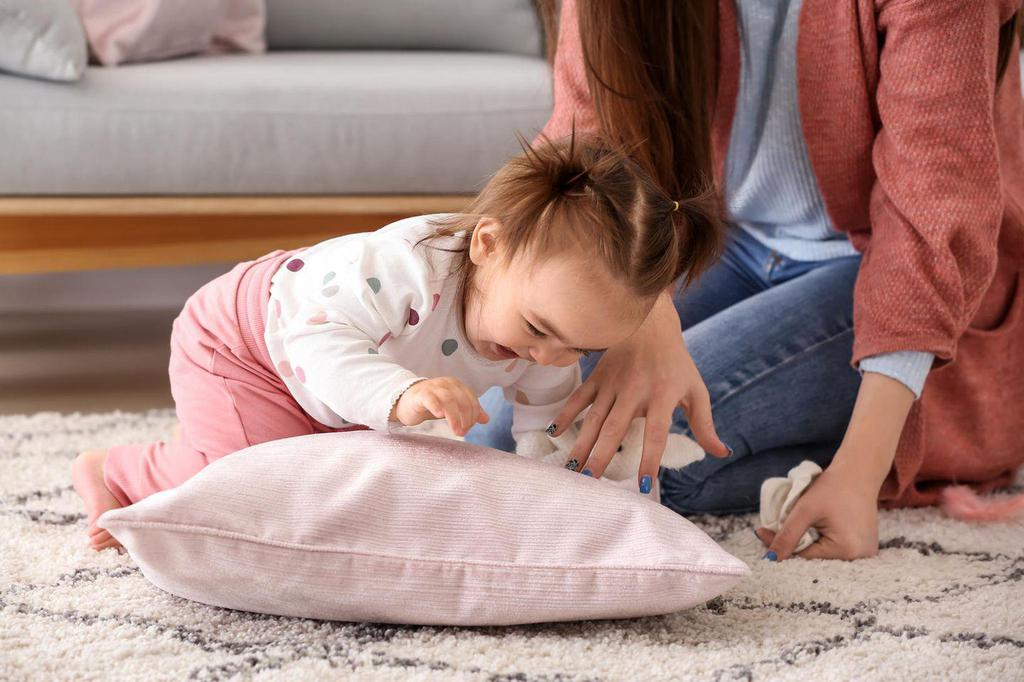child: (61, 132, 720, 568)
